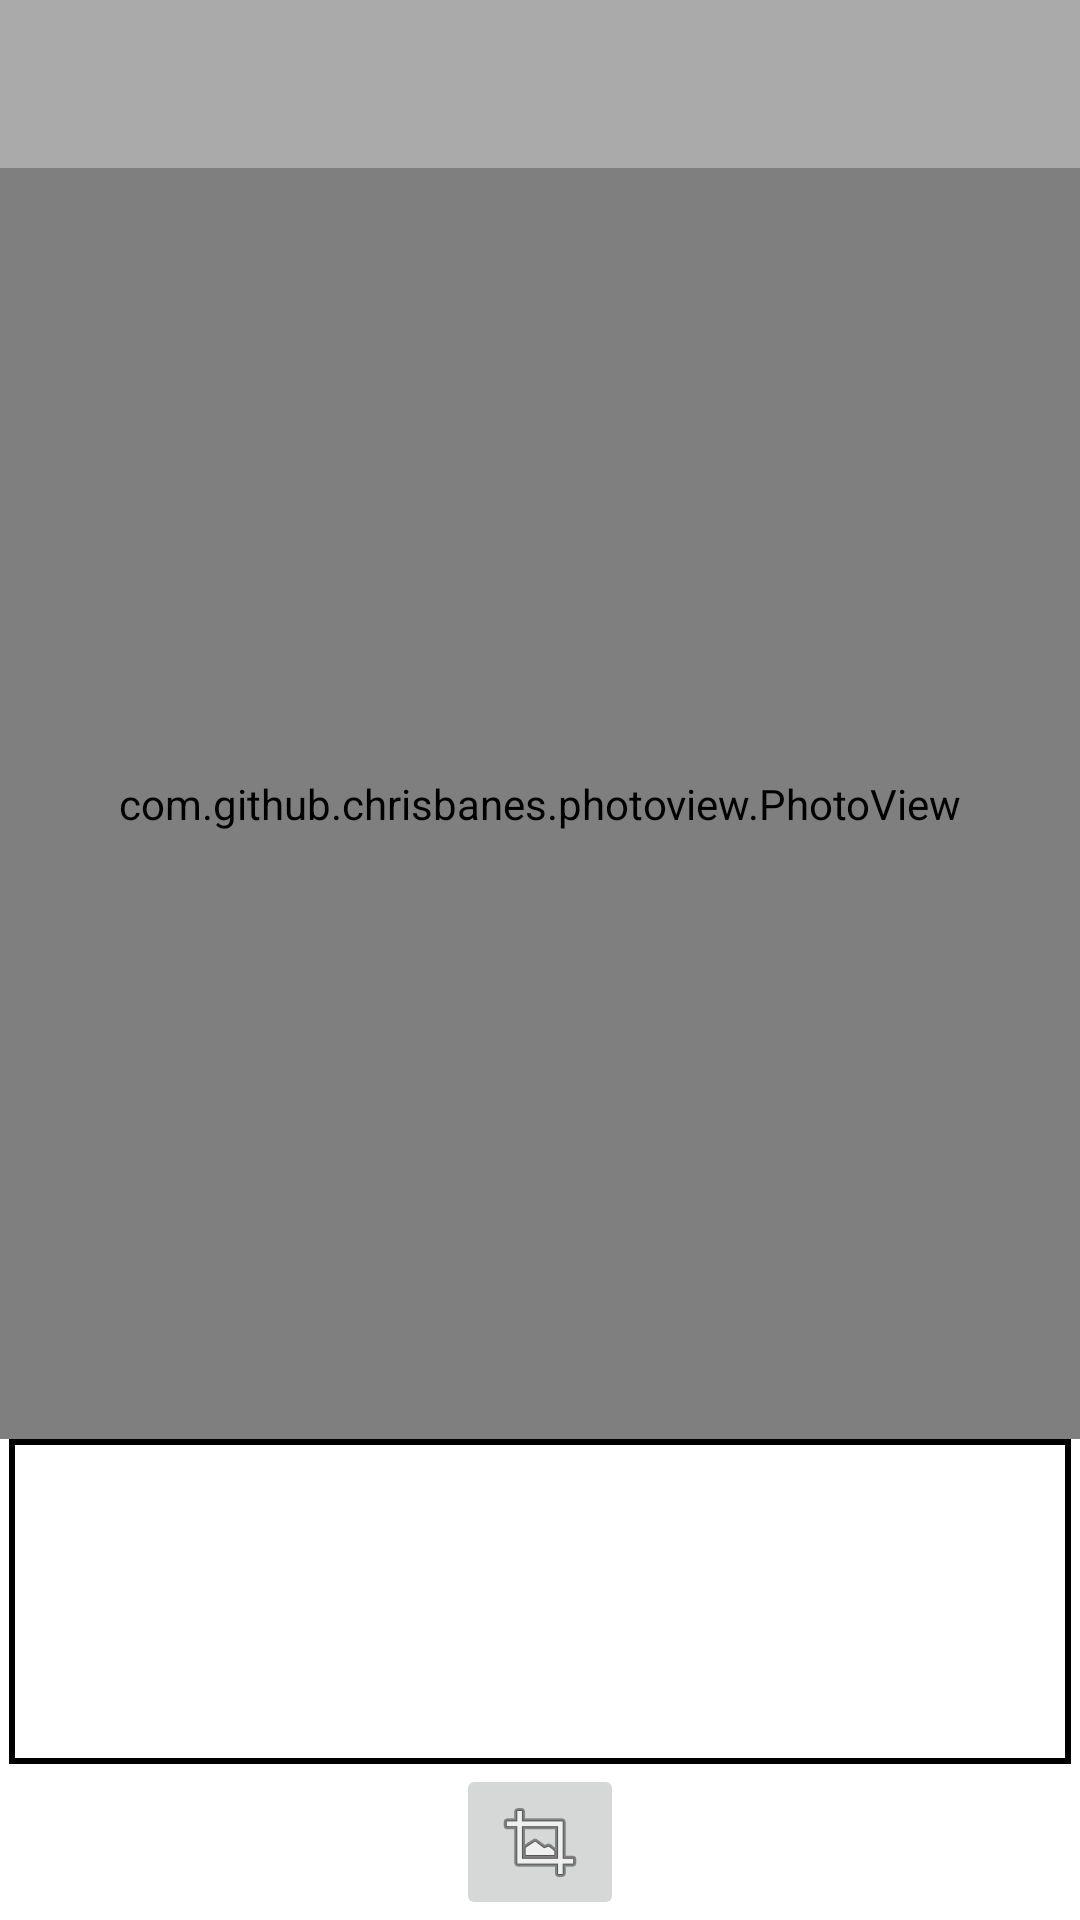

Icons on this 1080*1920 Android screen, each with the point to tap as (x,y):
crop: (540,1842)
